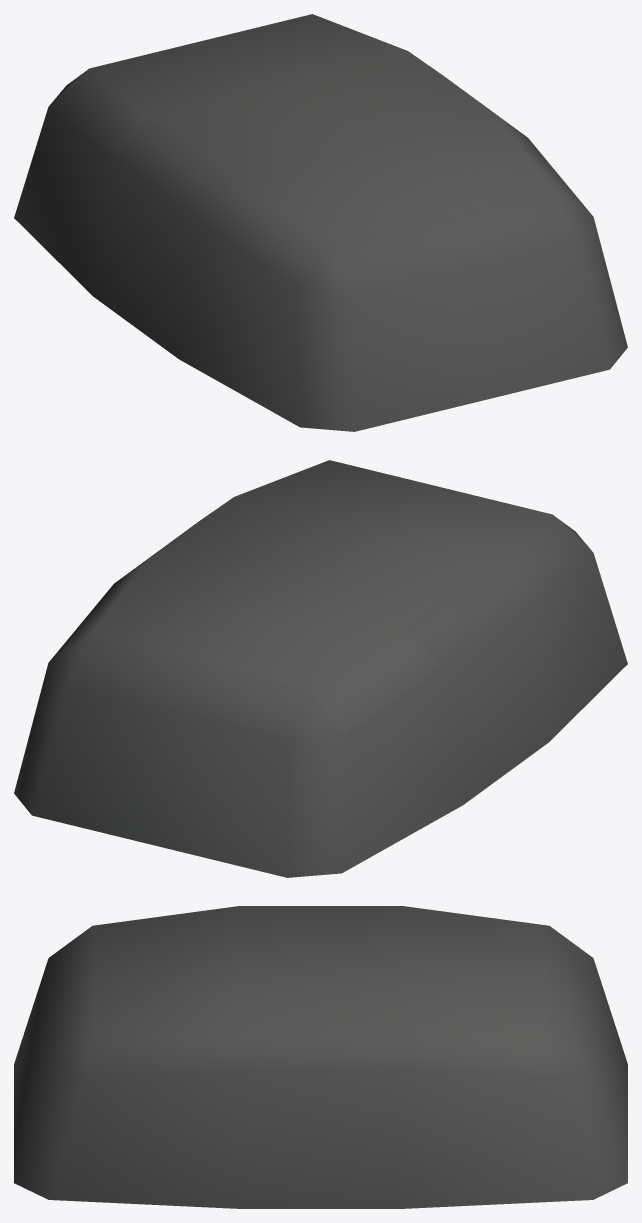
File: Brick_1_1.glb
3 views of the same model, one above another, from view 1: azimuth 30°, elevation 25°; view 2: azimuth 150°, elevation 25°; view 3: azimuth 270°, elevation 25° (orthographic). The views are drawn at different scales.
Parts seen in each view (by area): view 1: Brick_1_1; view 2: Brick_1_1; view 3: Brick_1_1.
Part boxes in pixels (x1,y1,x2,y2): Brick_1_1: [14, 14, 627, 431]; Brick_1_1: [14, 460, 627, 877]; Brick_1_1: [14, 906, 627, 1208].
Size of the model in its own units: 0.1544 by 0.0674 by 0.2342.
1 material, 1 textured.
